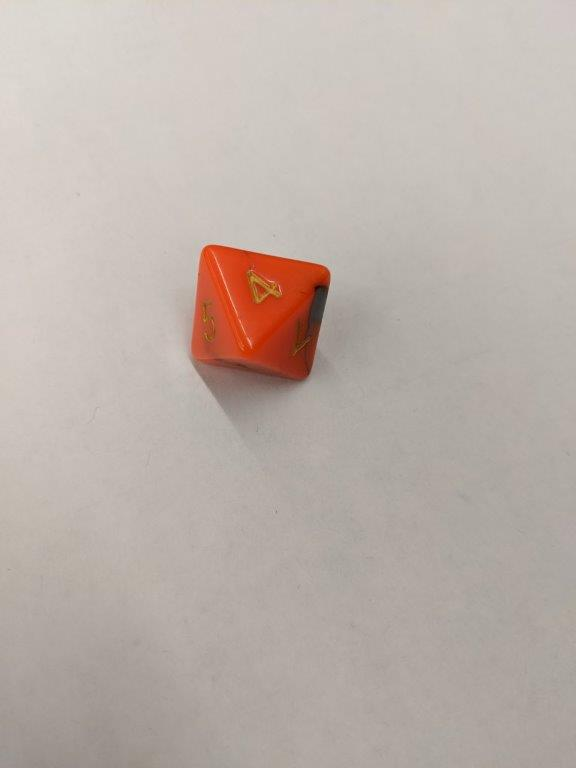d8-4: (189, 241, 331, 383)
